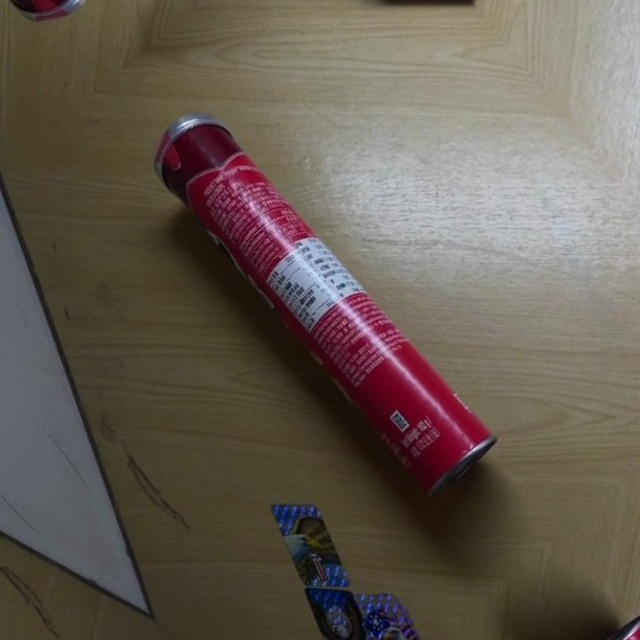Pringles: (137, 94, 504, 505)
